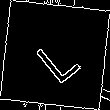L_NW: (27, 25, 83, 85)
